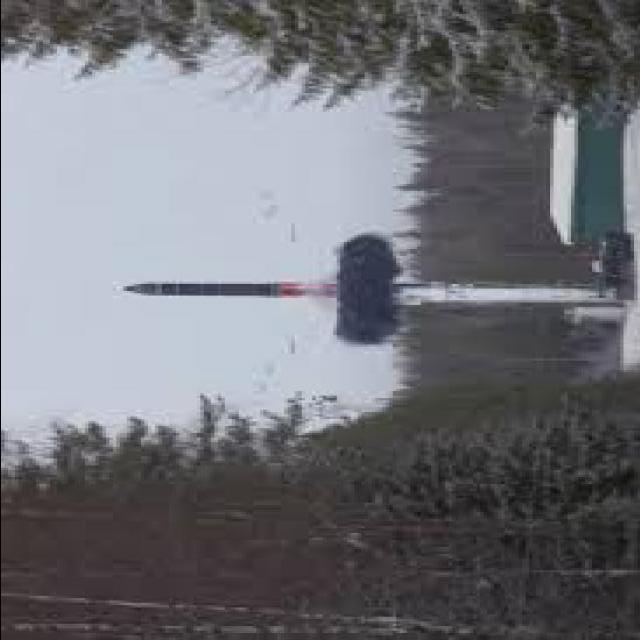missile: (121, 277, 332, 303)
